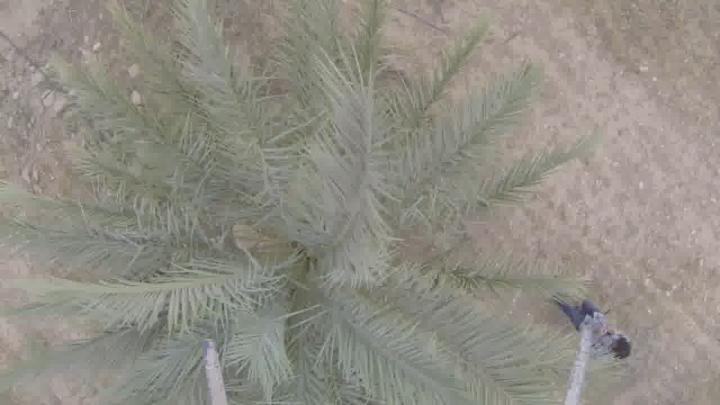Date-Palm-Crown: (138, 87, 456, 405)
